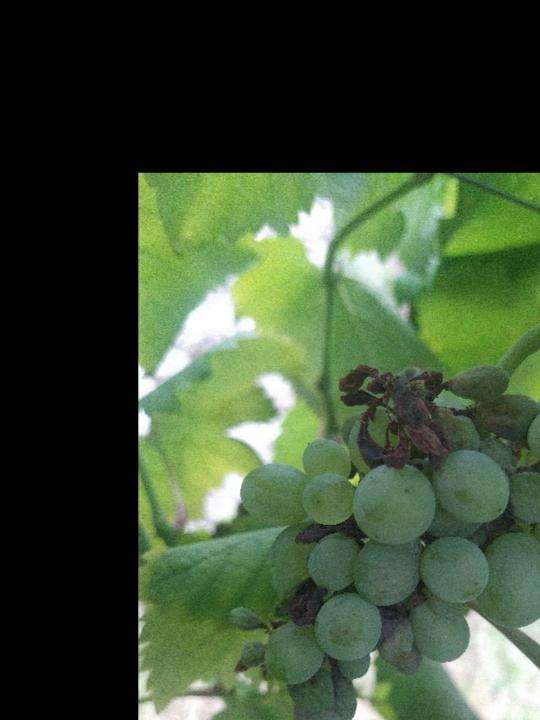grape: (224, 361, 540, 720)
